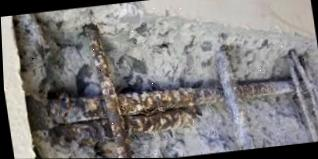exposed_rebar: (50, 24, 318, 158)
spalling: (11, 2, 318, 159)
